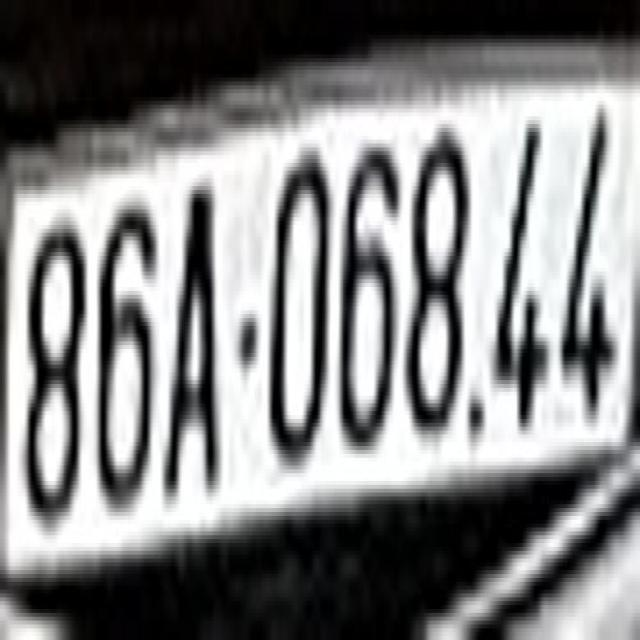0: (261, 132, 327, 477)
4: (560, 81, 617, 426), (496, 128, 549, 431)
6: (96, 210, 159, 528), (338, 128, 396, 458)
8: (29, 210, 87, 528), (408, 109, 463, 438)
A: (163, 182, 221, 508)
